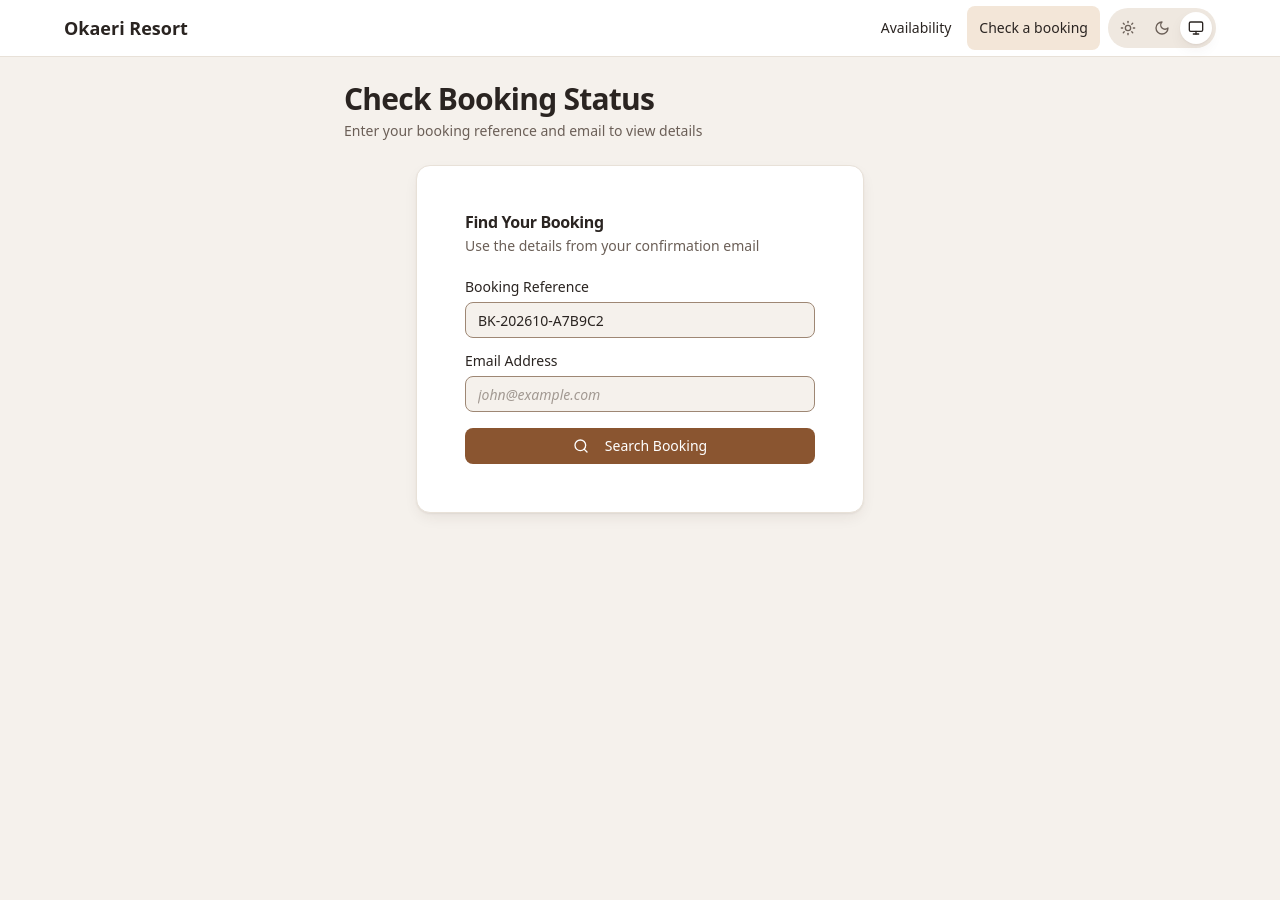
it: booking status lookup › shows the booking the status API returns
In the field labelled "Email Address": x=640, y=394 [465,376,815,412], type "guest@example.com"
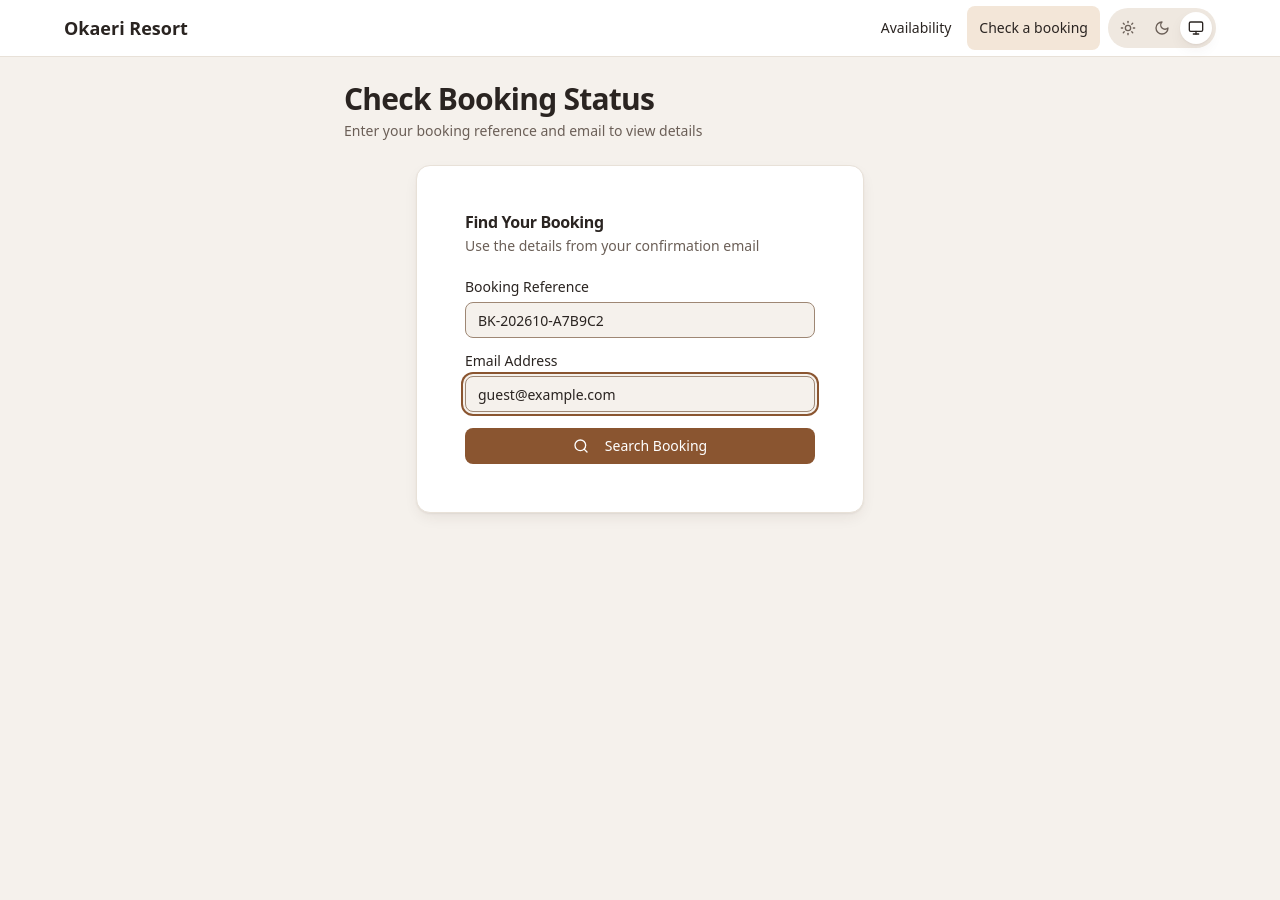
Click the button "Search Booking": x=640, y=446 [465,428,815,464]
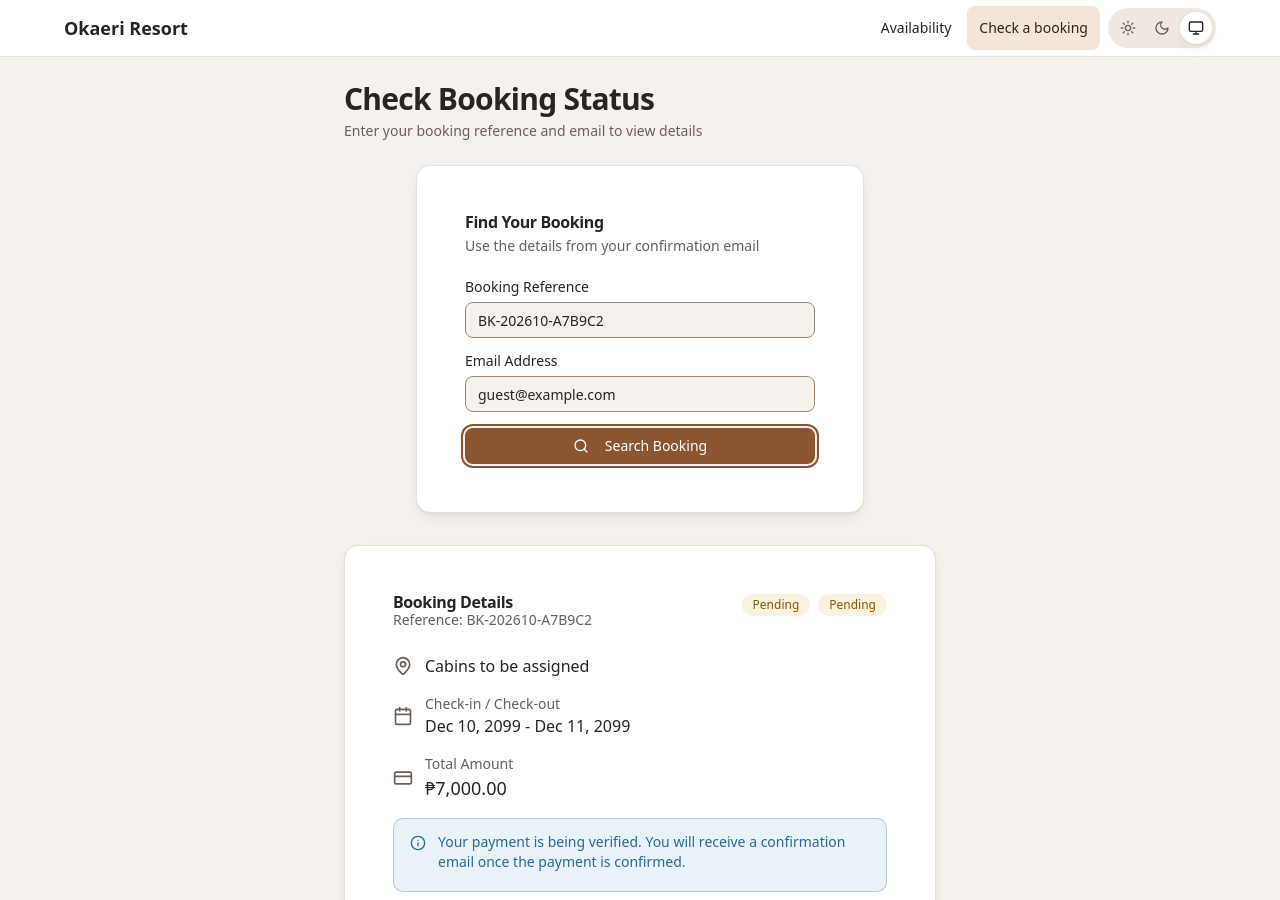
Expected: the heading "Booking Details" is shown, [393,591,513,613]
Expected: the text "Cabins to be assigned" is shown, [425,654,589,678]
Expected: the text "₱7,000.00" is shown, [425,774,513,802]
